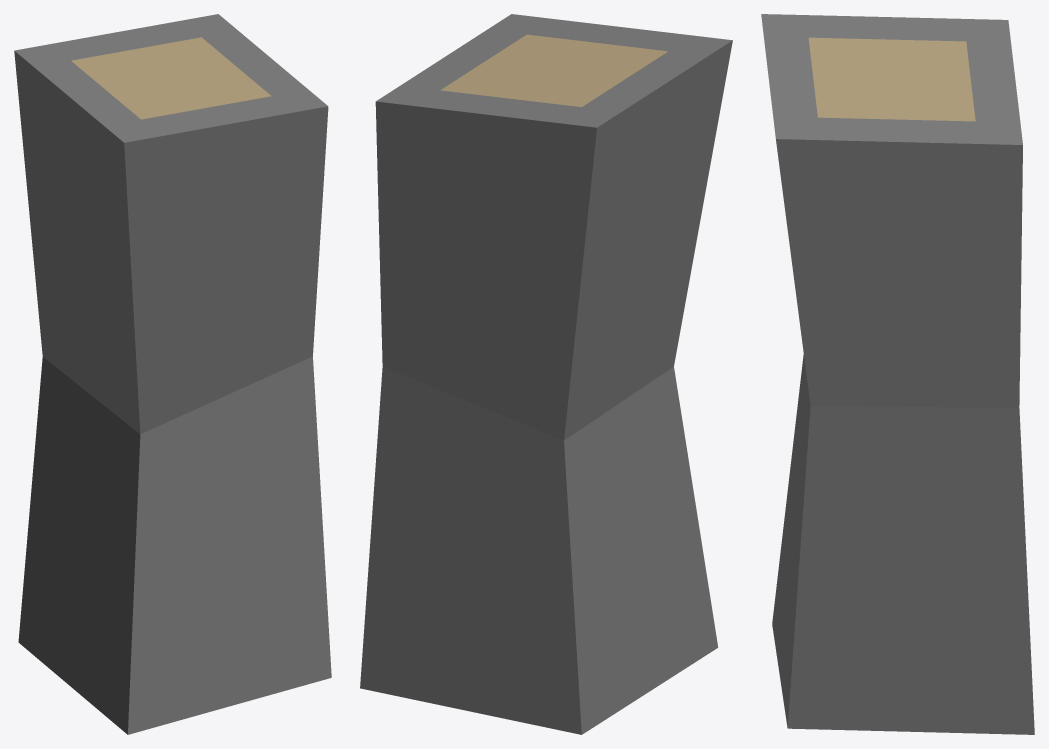
The model's file is Pillar_Square_1.fbx.
3 renders of one model, left to right at view 1: azimuth 30°, elevation 25°; view 2: azimuth 150°, elevation 25°; view 3: azimuth 270°, elevation 25°, orthographic.
Visible parts, largest first — view 1: Box001; view 2: Box001; view 3: Box001.
Boxes of the visible parts, x1,y1,x2,y2 form: Box001: (14,14,331,734); Box001: (360,14,732,734); Box001: (761,14,1034,734).
Bounding box in the file's own units: 16.32 × 40 × 16.38.
